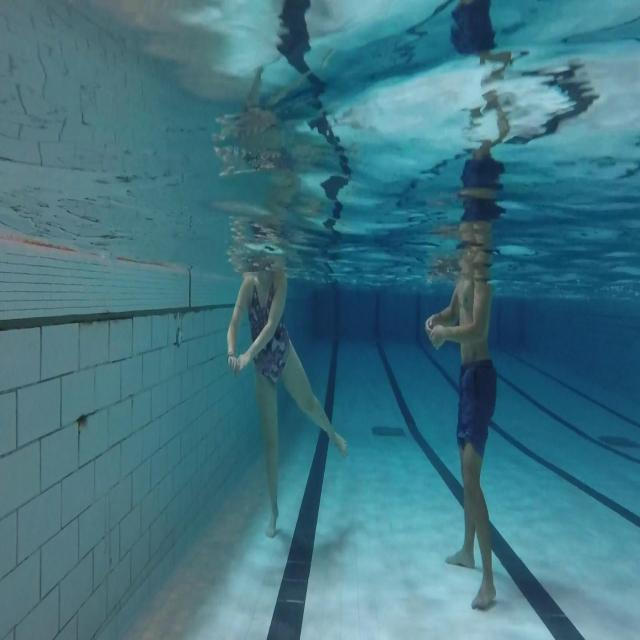human: (424, 89, 511, 610), (226, 241, 347, 538)
